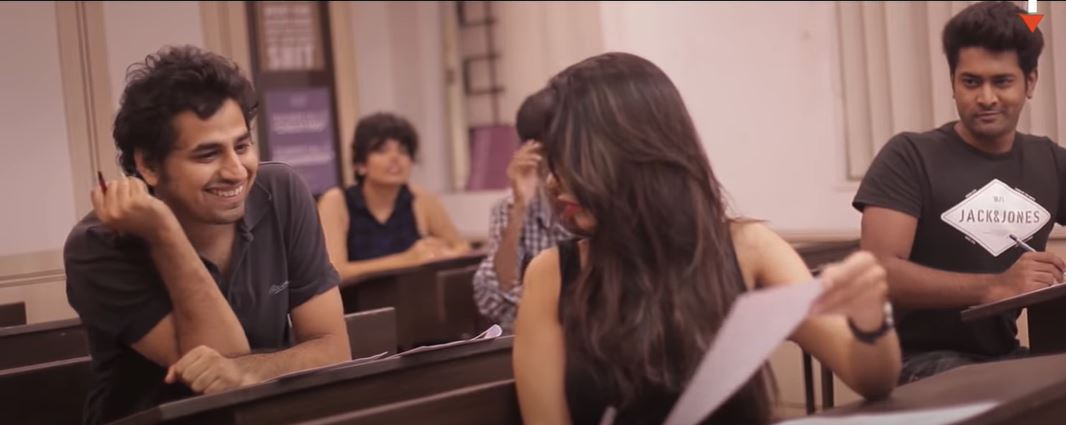student: (325, 134, 482, 260)
studentcopying: (80, 95, 369, 378), (510, 112, 741, 425), (896, 6, 1066, 246)
